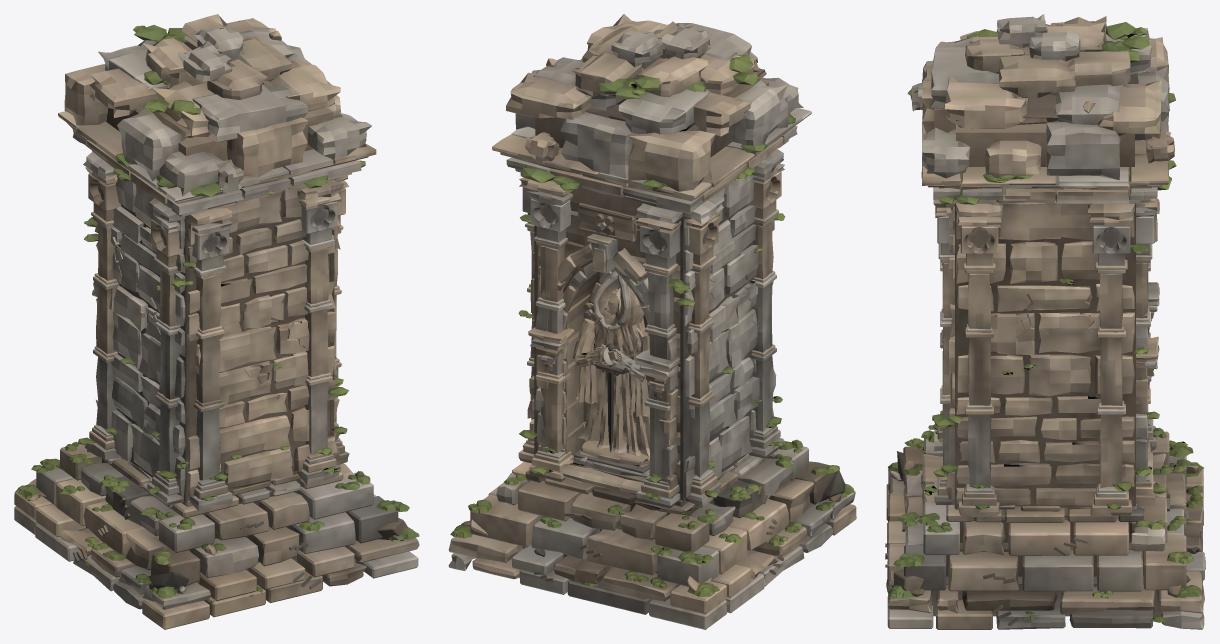
Rendered from SM_Cripta_Pilar.glb.
3 views of the same model, side by side, from view 1: azimuth 30°, elevation 25°; view 2: azimuth 150°, elevation 25°; view 3: azimuth 270°, elevation 25° (orthographic). The views are drawn at different scales.
Visible parts, largest first — view 1: SM_Cripta_Pilar; view 2: SM_Cripta_Pilar; view 3: SM_Cripta_Pilar.
Boxes of the visible parts, <box> form: SM_Cripta_Pilar: <box>14,14,419,629</box>; SM_Cripta_Pilar: <box>448,14,856,629</box>; SM_Cripta_Pilar: <box>885,14,1205,629</box>.
Size of the model in its own units: 3.4 by 6.25 by 3.4.
1 material, 1 textured.
